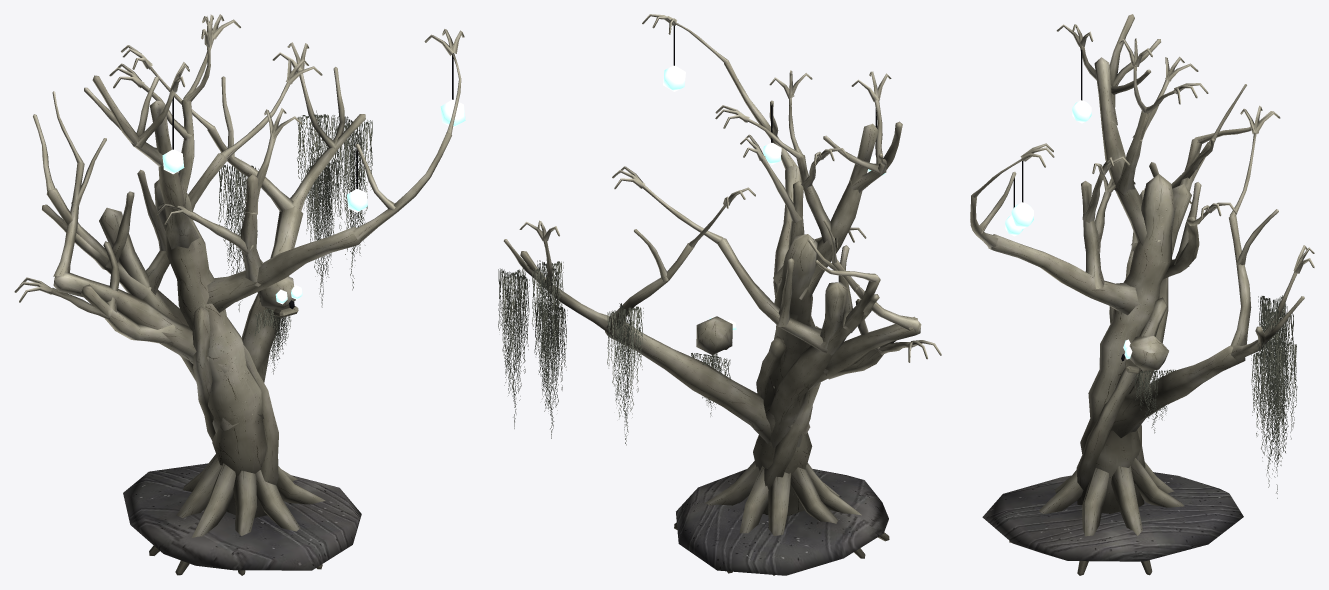
The model's file is helheim_bone_tree_a.glb.
3 renders of one model, left to right at view 1: azimuth 30°, elevation 25°; view 2: azimuth 150°, elevation 25°; view 3: azimuth 270°, elevation 25°, orthographic. The views are drawn at different scales.
Parts seen in each view (by area): view 1: helheim_bone_tree_a; view 2: helheim_bone_tree_a; view 3: helheim_bone_tree_a.
Part boxes in pixels (box(x1,y1,x2,y2)): helheim_bone_tree_a: box(14, 14, 465, 575); helheim_bone_tree_a: box(498, 14, 941, 575); helheim_bone_tree_a: box(970, 14, 1314, 575).
Bounding box in the file's own units: 2.91 × 3.47 × 2.21.
5 materials, 3 textured.
